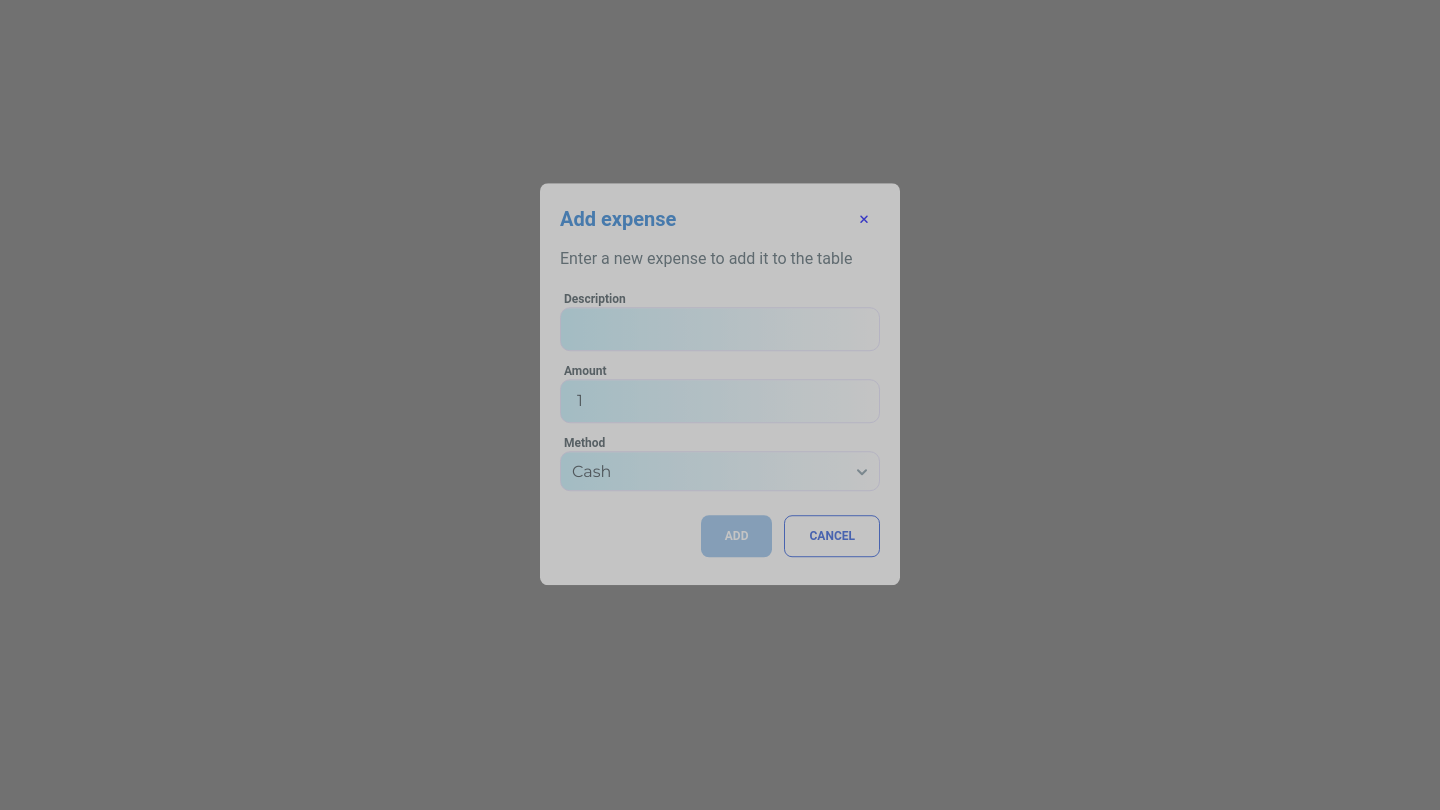
Test: Expenses Form › Validations › should display wrong entries validations
The image size is (1440, 810).
Clear the field labelled "Description": coordinates (720, 329) x1=560 y1=307 x2=880 y2=351
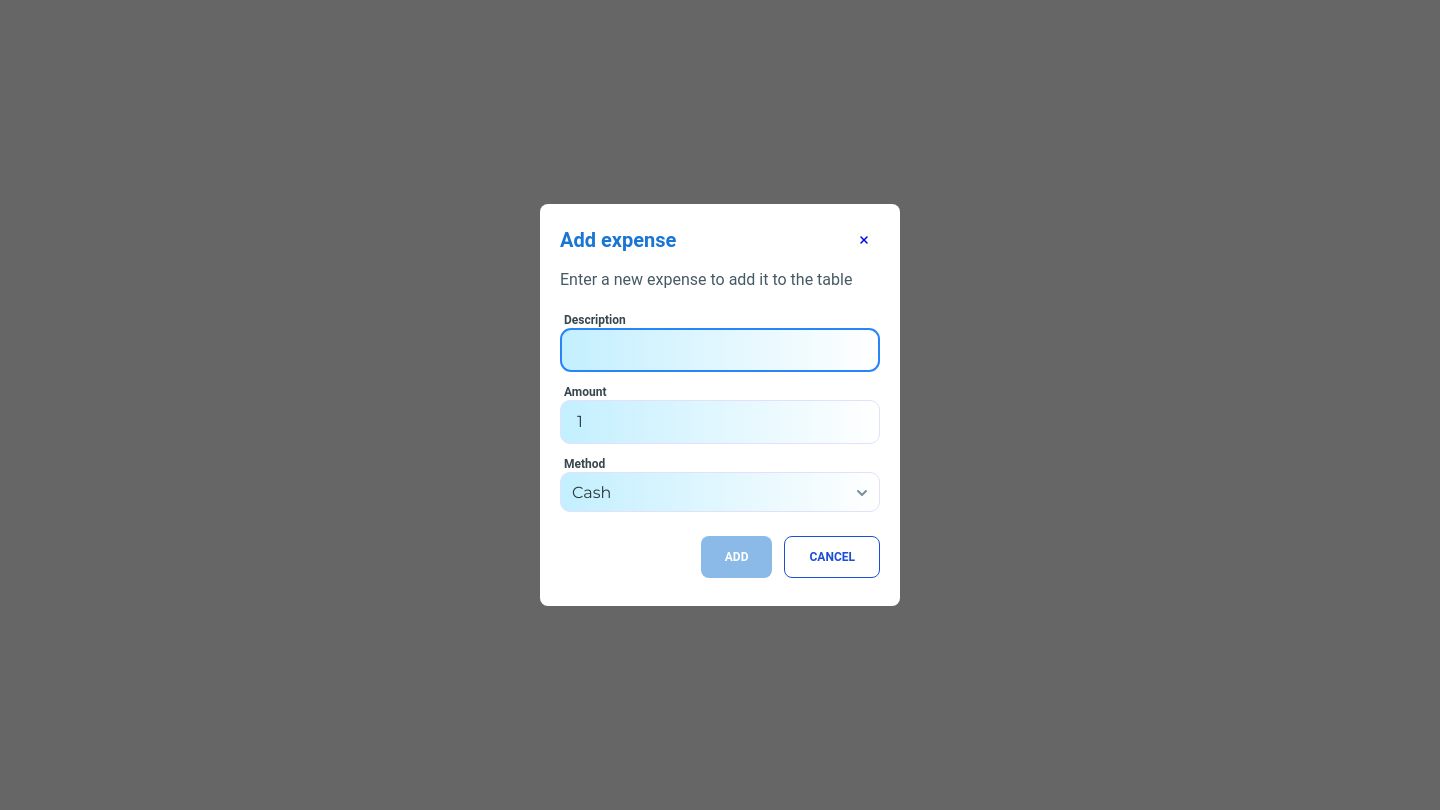
In the field labelled "Description": coordinates (720, 350) x1=560 y1=328 x2=880 y2=372, type "A"
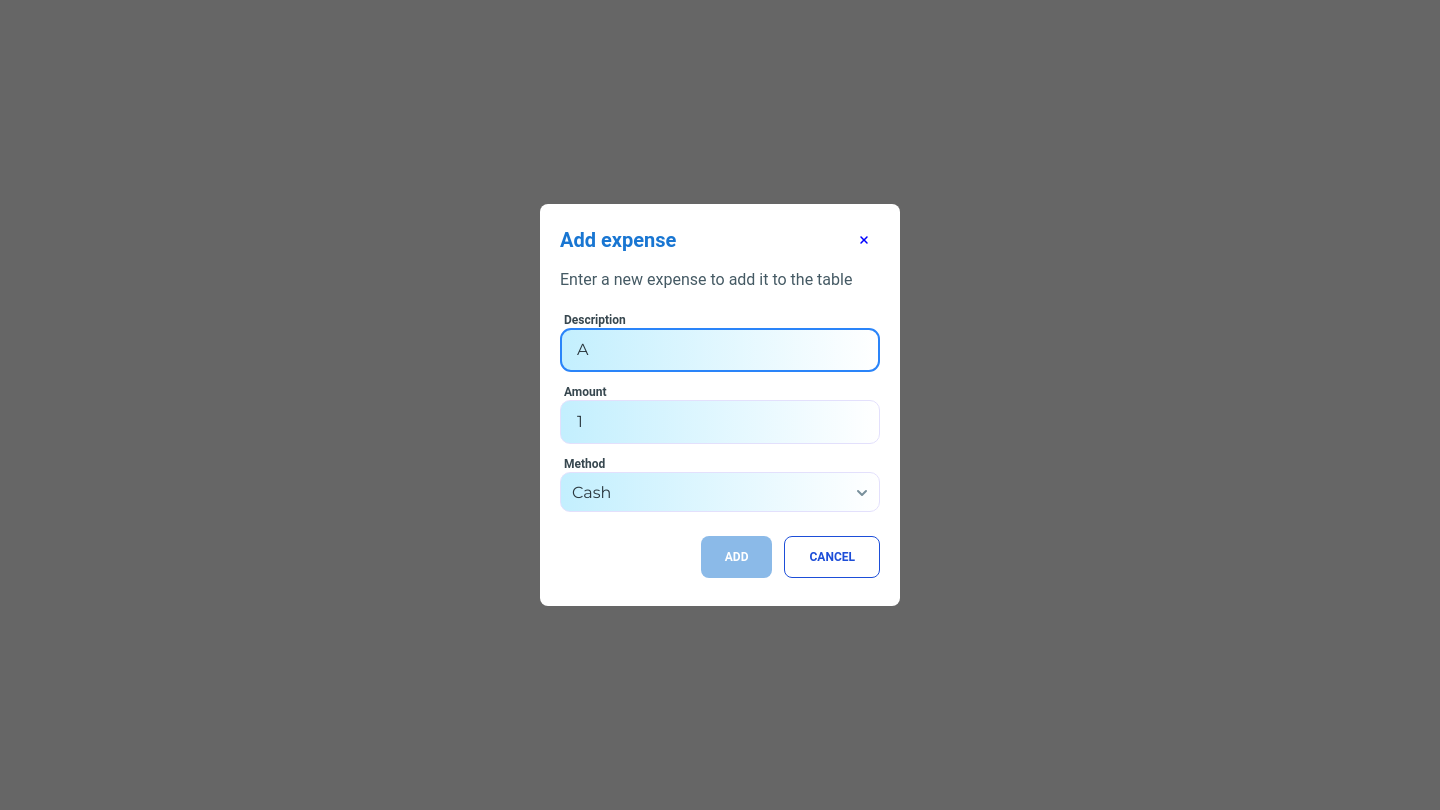
Clear the number field labelled "Amount": coordinates (720, 422) x1=560 y1=400 x2=880 y2=444
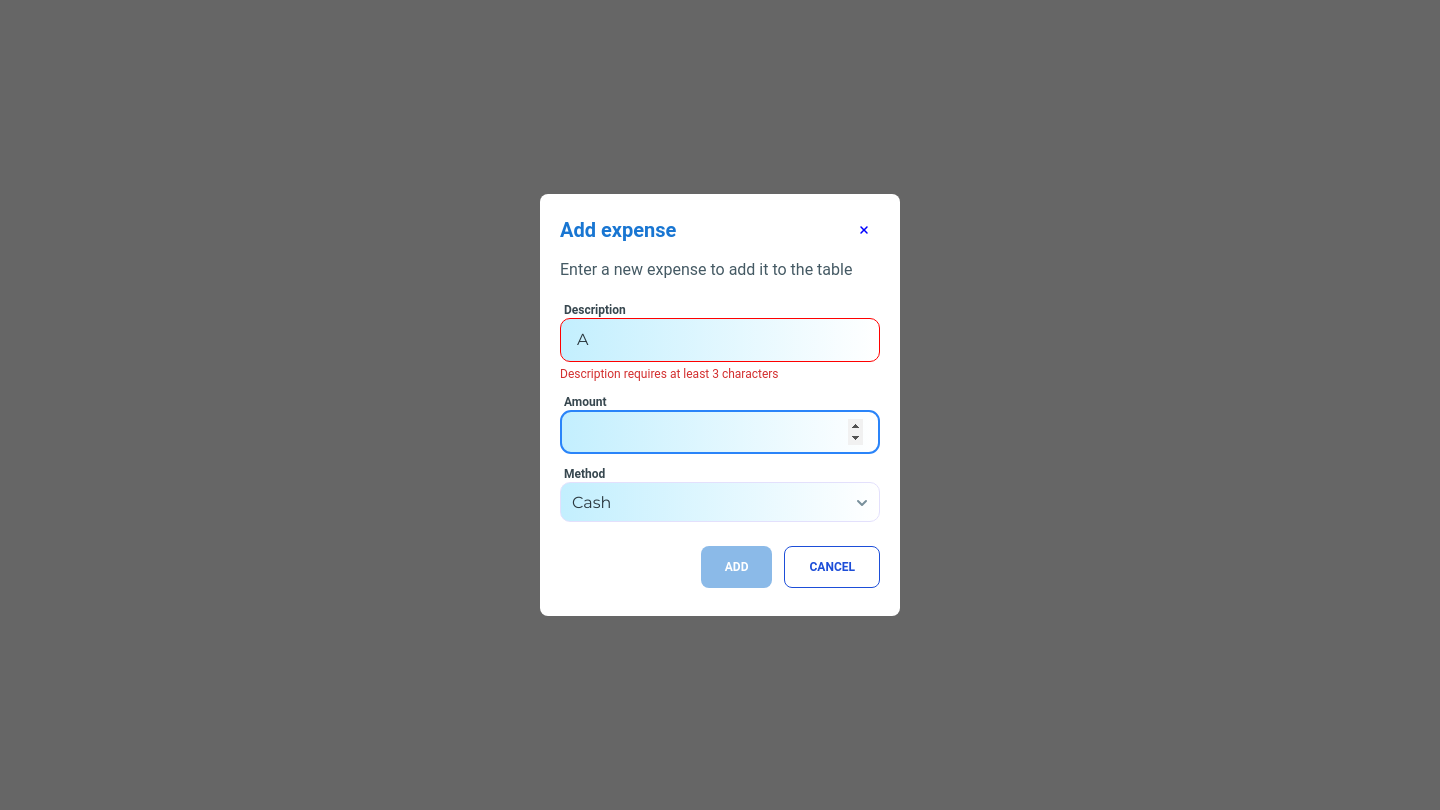
In the number field labelled "Amount": coordinates (720, 432) x1=560 y1=410 x2=880 y2=454, type "-1"
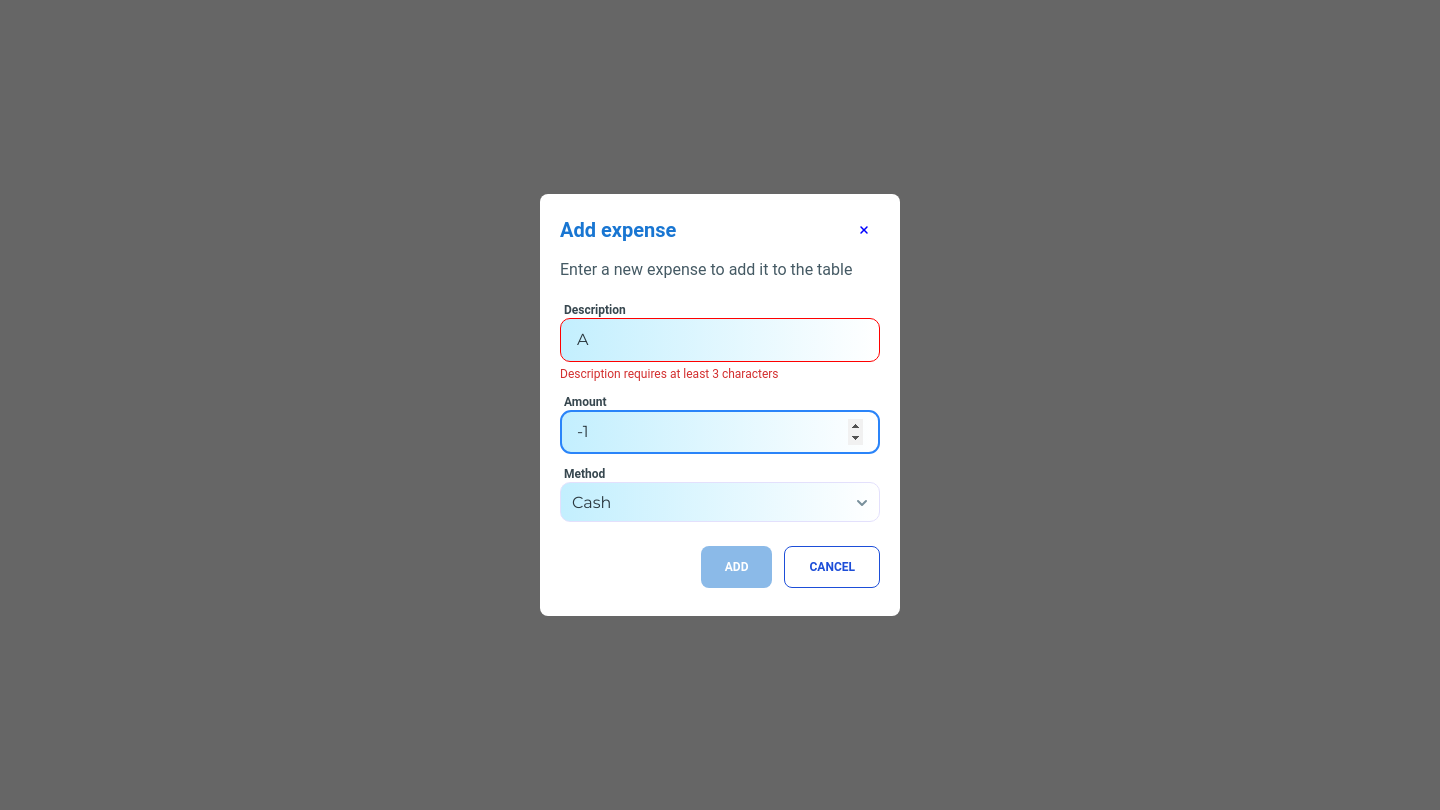
Press Tab
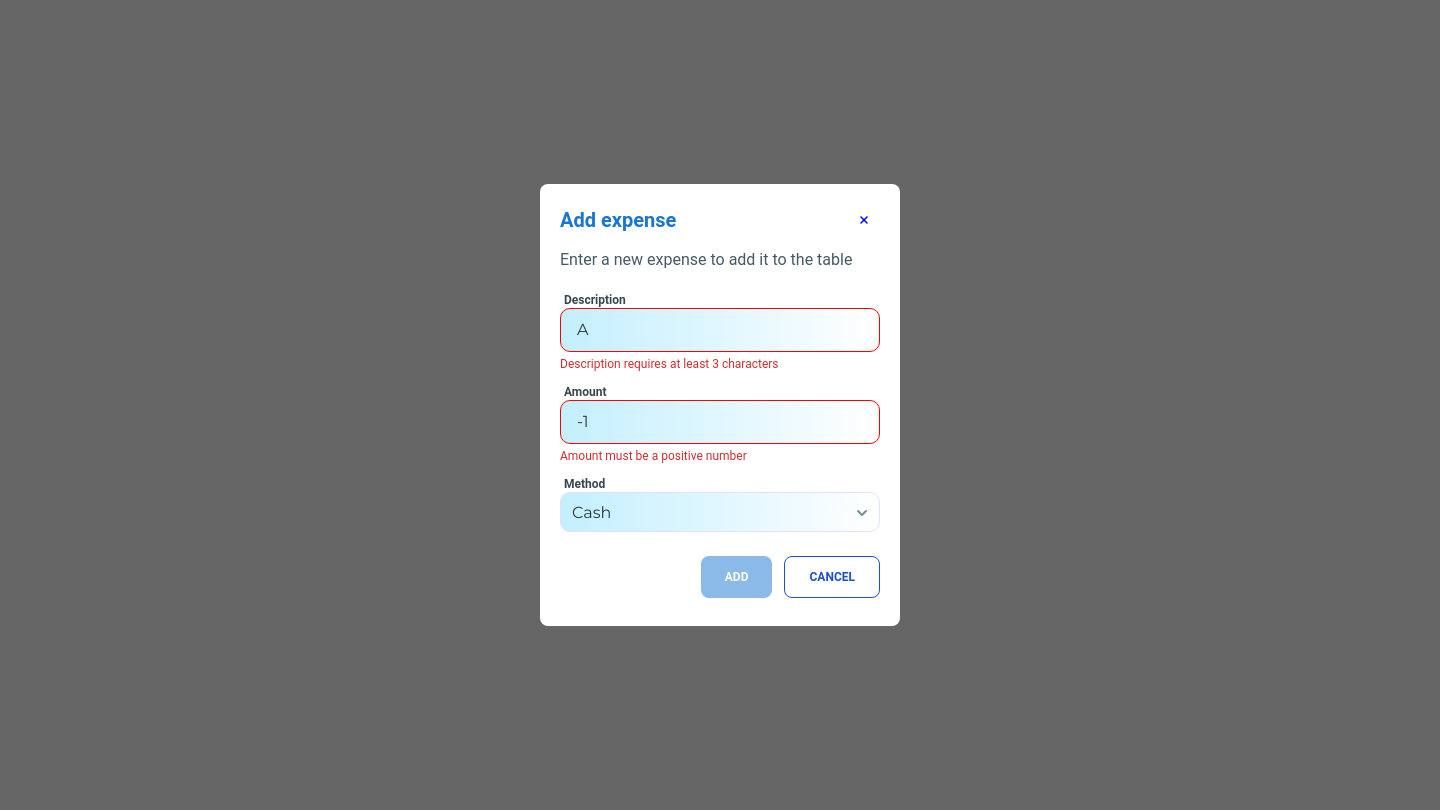
Check: the message "Description requires at least 3 characters" is shown, box x1=560 y1=357 x2=779 y2=371
Check: the number of messages is 2, box x1=560 y1=357 x2=779 y2=371; x1=560 y1=449 x2=747 y2=463
Check: the message "Amount must be a positive number" is shown, box x1=560 y1=449 x2=747 y2=463
